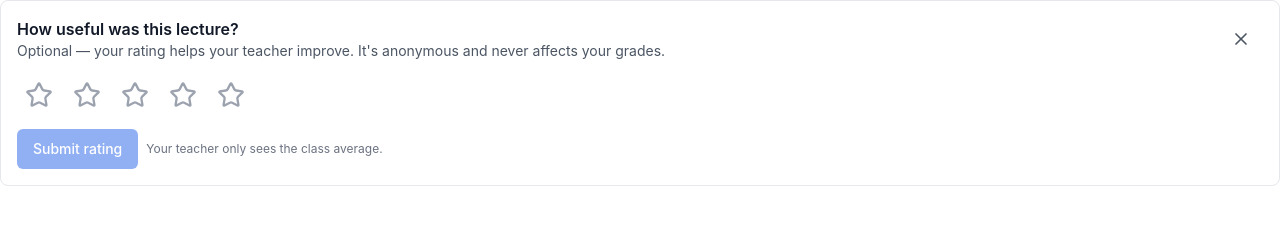
Test: LectureRatingPrompt › surfaces a submit error
Click the radio button named "2 stars": (87, 95) [65, 73, 109, 117]
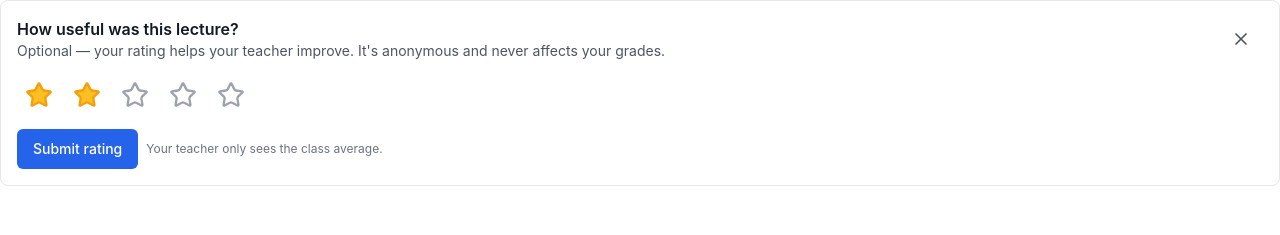
Click the button with test id "lecture-rating-submit": (78, 149) [17, 129, 138, 169]
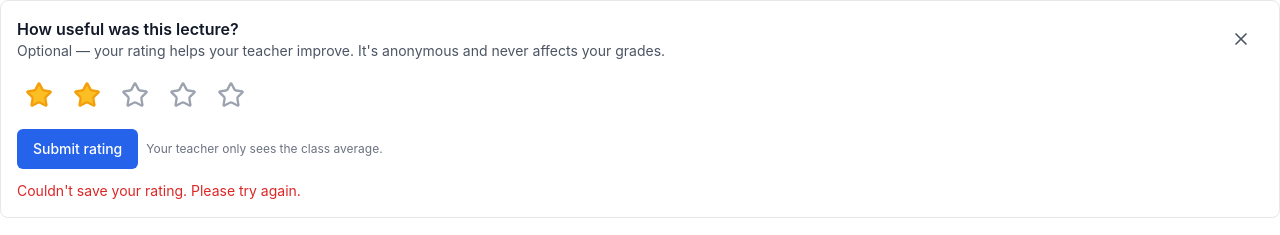
Now the message shows "Couldn't save your rating.", box [17, 182, 301, 199]
